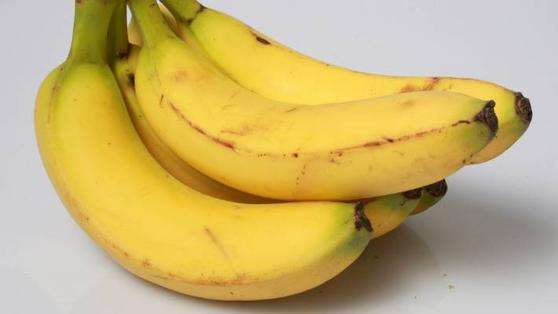banana: (26, 53, 378, 296), (126, 5, 500, 204)
